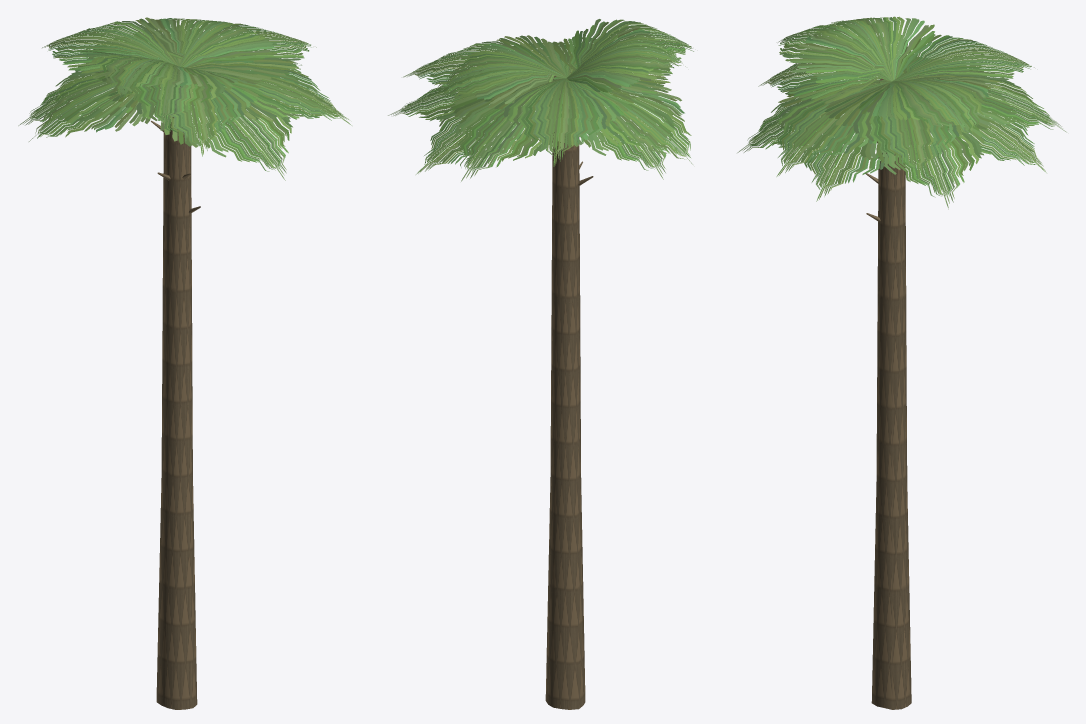
File: FloridaPalm_LOD0.fbx
3 views of the same model, side by side, from view 1: azimuth 30°, elevation 25°; view 2: azimuth 150°, elevation 25°; view 3: azimuth 270°, elevation 25° (orthographic). The views are drawn at different scales.
Visible parts, largest first — view 1: FloridaPalm_LOD0; view 2: FloridaPalm_LOD0; view 3: FloridaPalm_LOD0.
Part boxes in pixels (x1,y1,x2,y2): FloridaPalm_LOD0: [18, 17, 351, 709]; FloridaPalm_LOD0: [388, 19, 693, 709]; FloridaPalm_LOD0: [737, 16, 1066, 709].
Bounding box in the file's own units: 5.59 × 11.74 × 5.54.
1 material, 1 textured.
